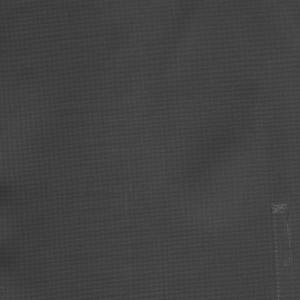Damage: (266, 197, 297, 300)
Wrinkle: (1, 174, 68, 273), (145, 1, 211, 87)
